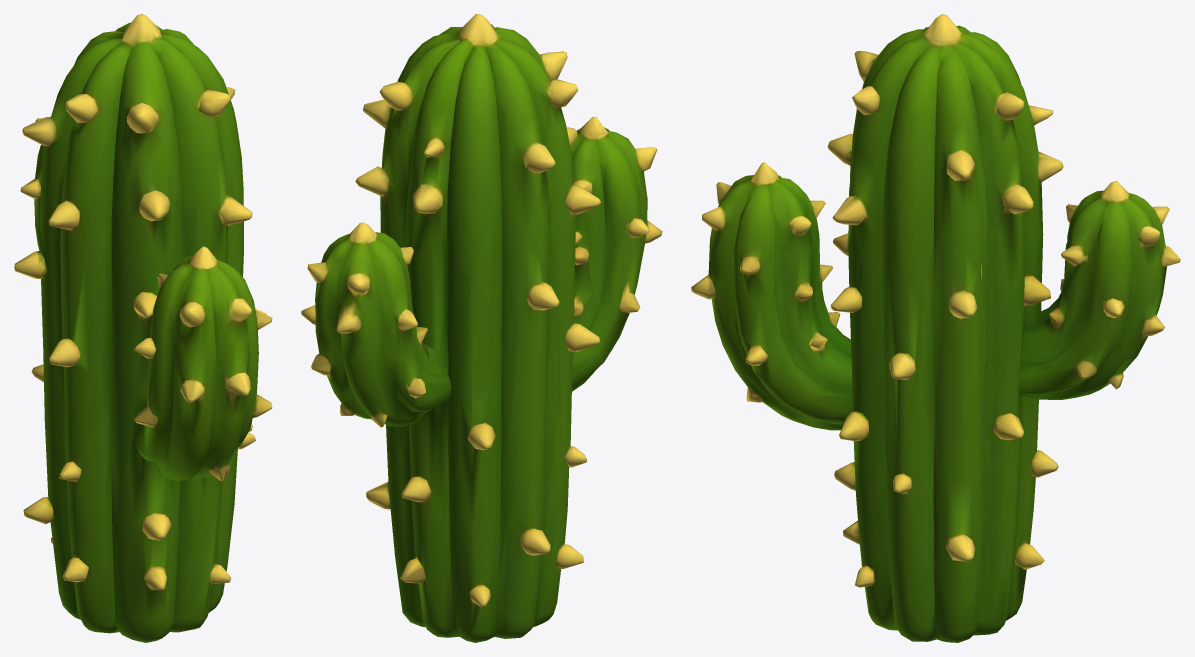
Rendered from cactus_saguaro.glb.
The picture shows the model from 3 angles, left to right: view 1: azimuth 30°, elevation 25°; view 2: azimuth 150°, elevation 25°; view 3: azimuth 270°, elevation 25°; orthographic projection.
Parts seen in each view (by area): view 1: tripo_node_f35b8dcd-b9dd-4f7c-bffa-781faa9ebcfa; view 2: tripo_node_f35b8dcd-b9dd-4f7c-bffa-781faa9ebcfa; view 3: tripo_node_f35b8dcd-b9dd-4f7c-bffa-781faa9ebcfa.
Boxes of the visible parts, x1,y1,x2,y2 form: tripo_node_f35b8dcd-b9dd-4f7c-bffa-781faa9ebcfa: [14, 14, 272, 642]; tripo_node_f35b8dcd-b9dd-4f7c-bffa-781faa9ebcfa: [301, 14, 662, 642]; tripo_node_f35b8dcd-b9dd-4f7c-bffa-781faa9ebcfa: [691, 14, 1180, 642].
Bounding box in the file's own units: 0.4109 × 1.1 × 0.8092.
Materials: 1 (1 with a texture image).
